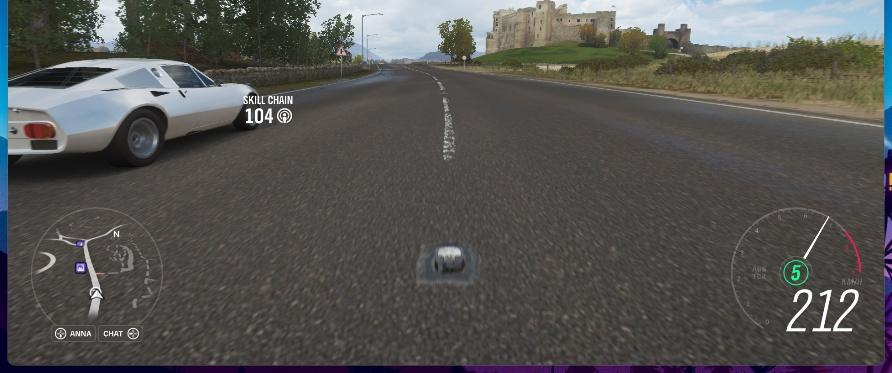House: (485, 0, 616, 55), (652, 22, 691, 49)
Tree: (7, 0, 105, 70), (437, 17, 476, 64), (318, 12, 354, 62)
